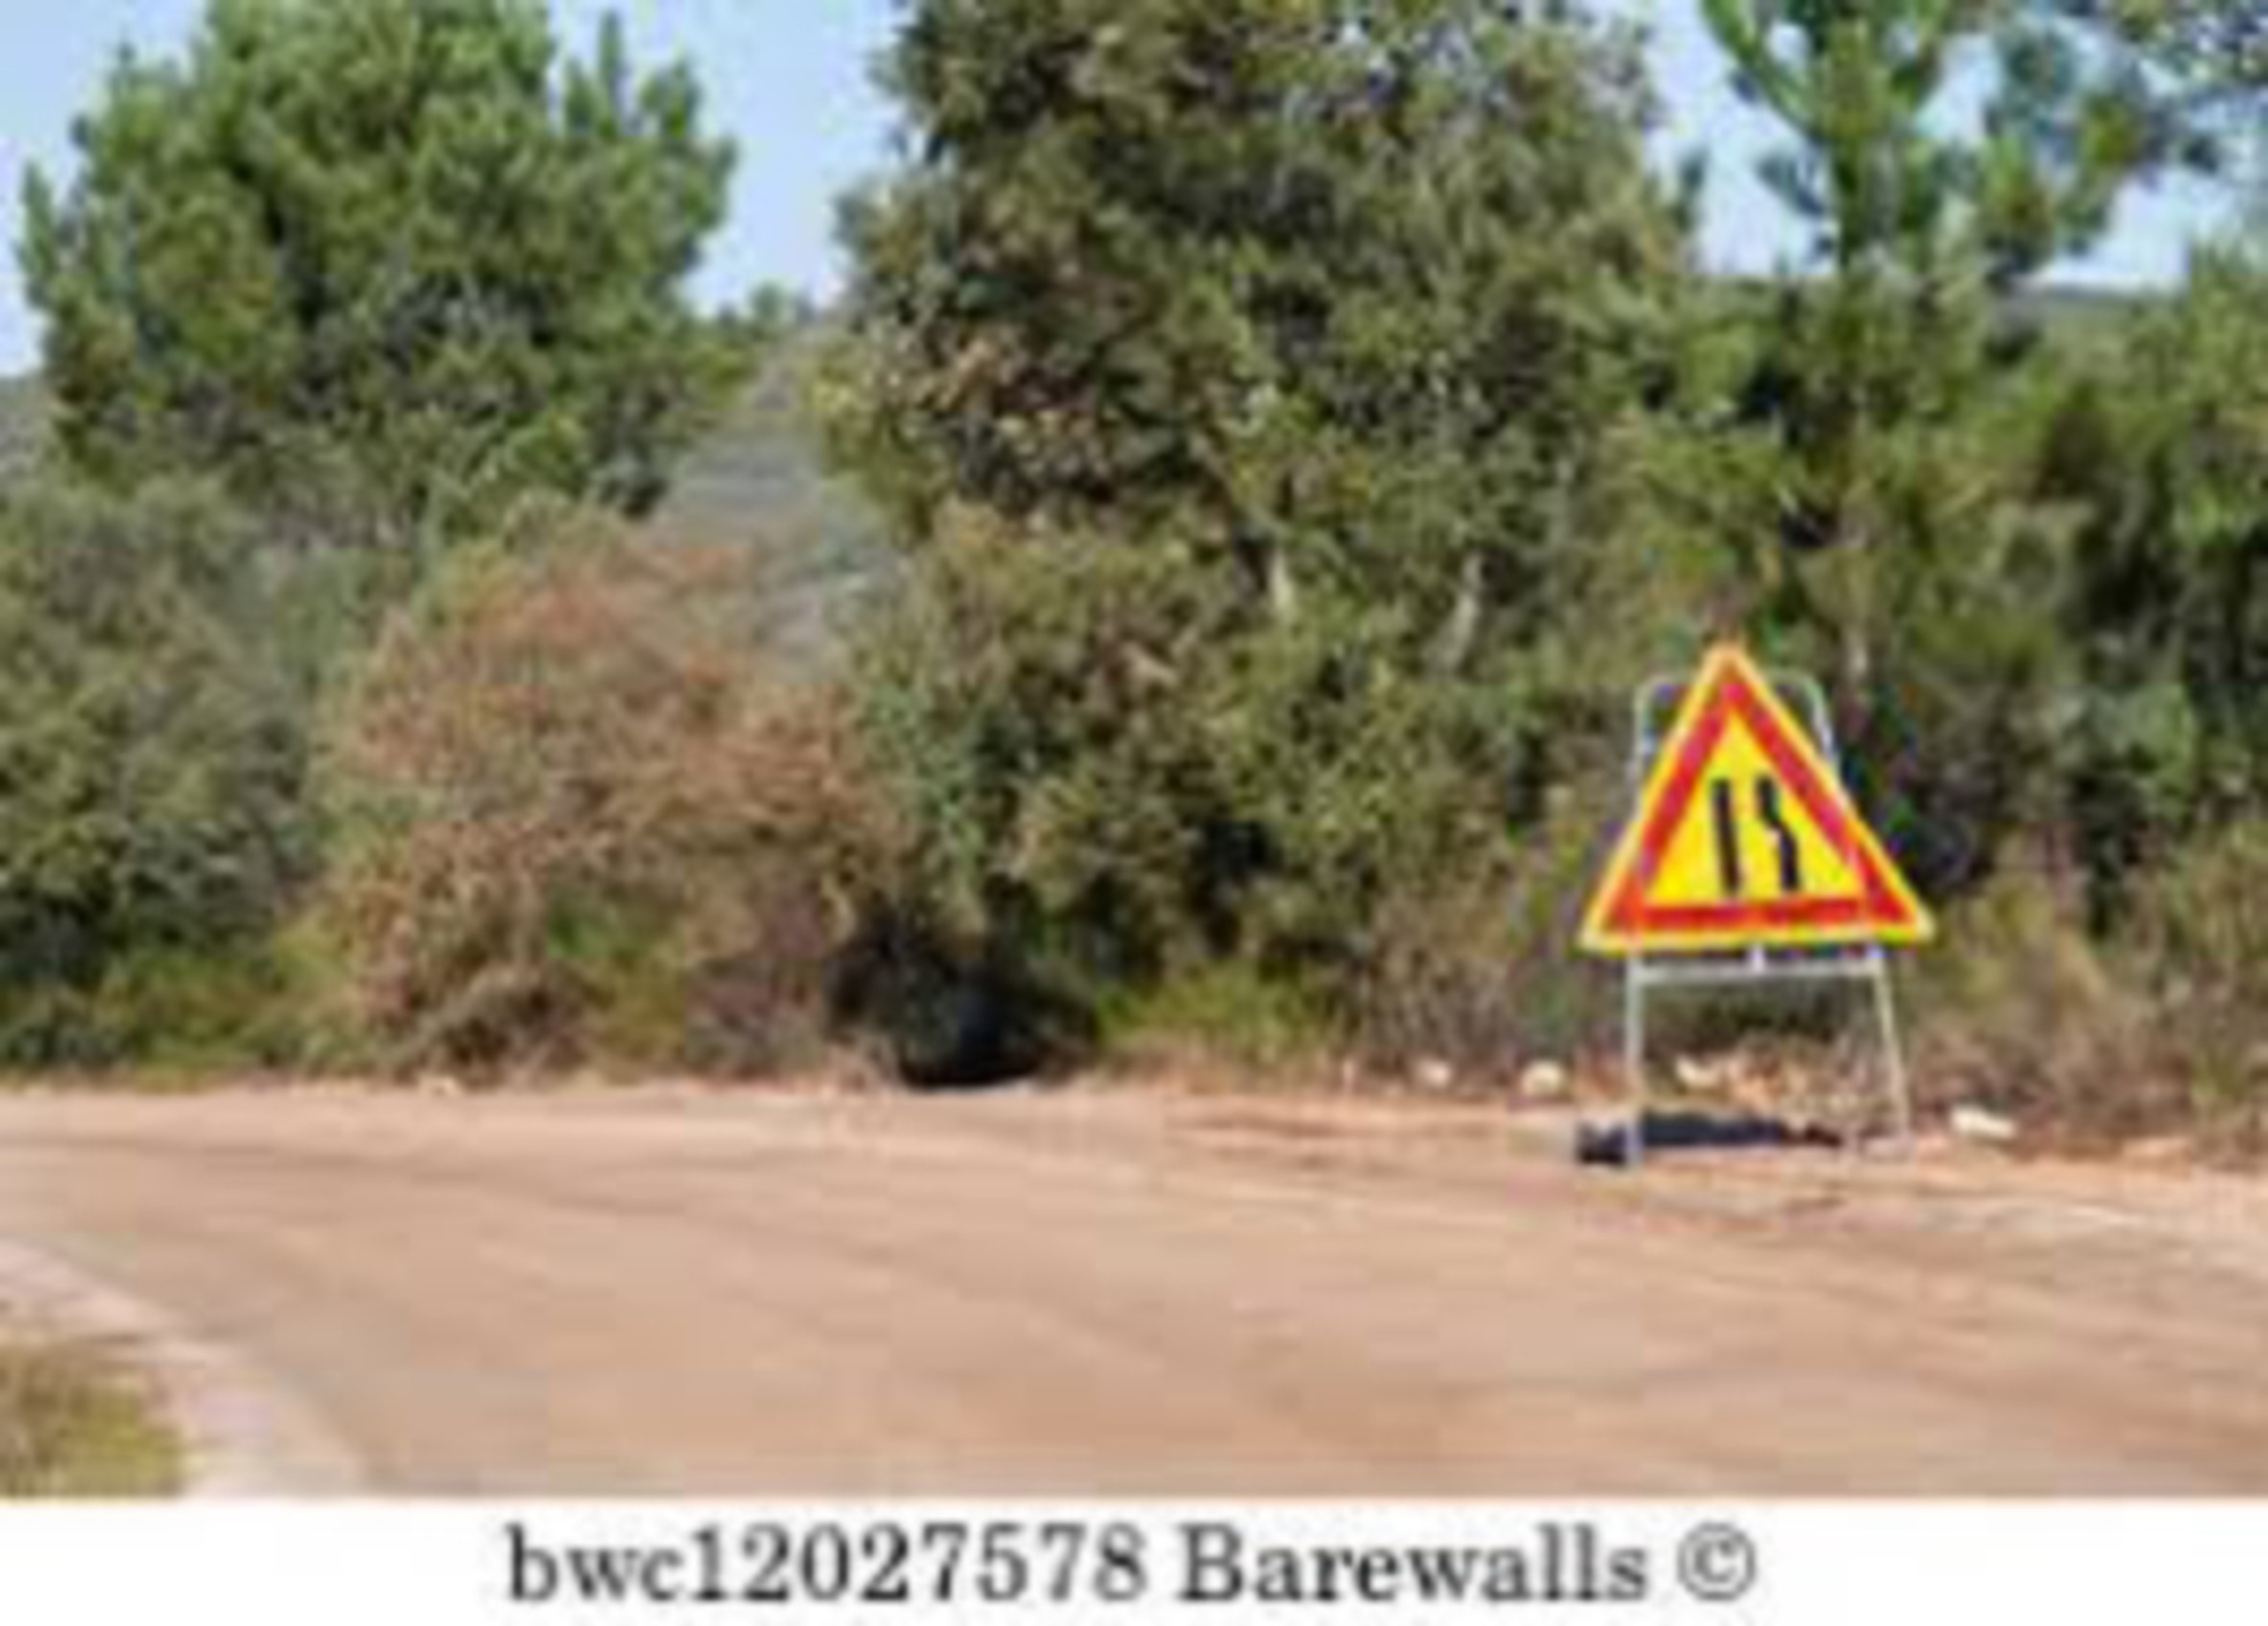Narrow_road: (1552, 637, 1957, 966)
